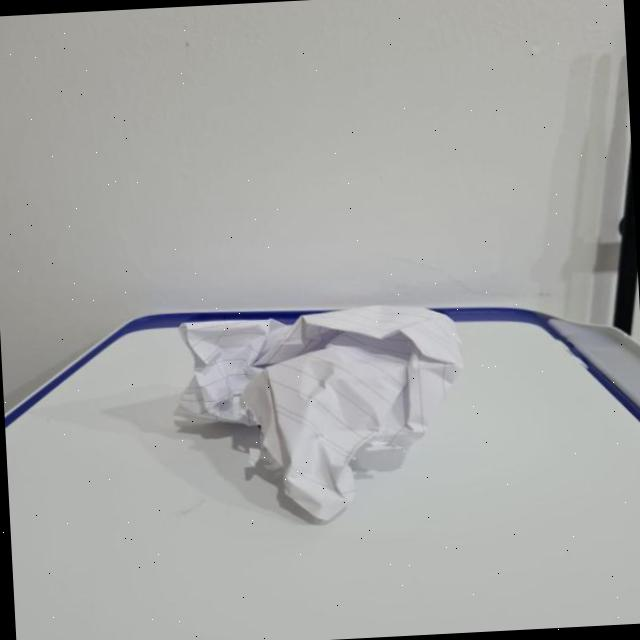trash: (174, 300, 482, 484)
